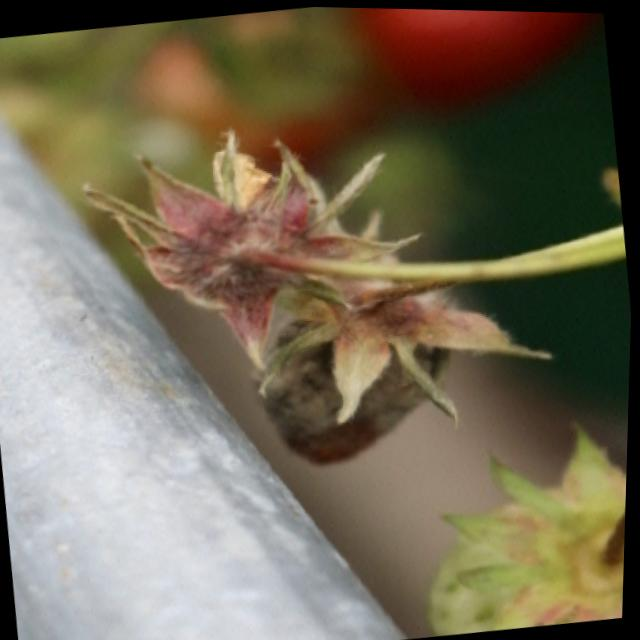Gray Mold: (83, 133, 420, 374), (262, 268, 514, 466)
